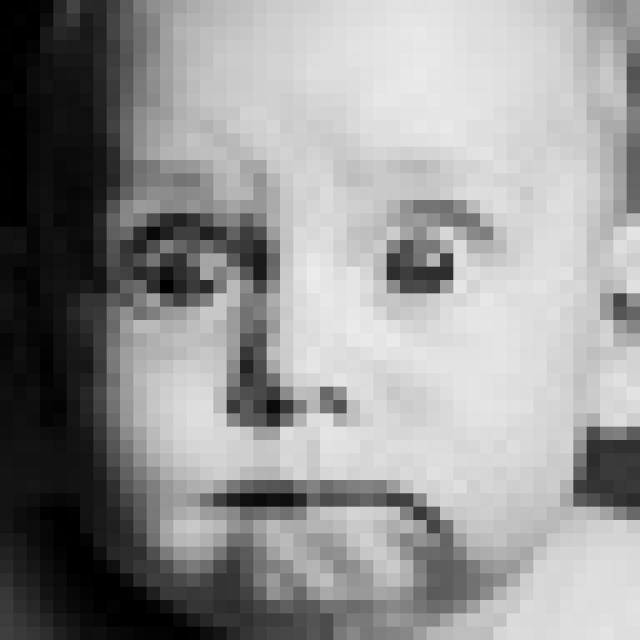fear: (96, 110, 534, 572)
